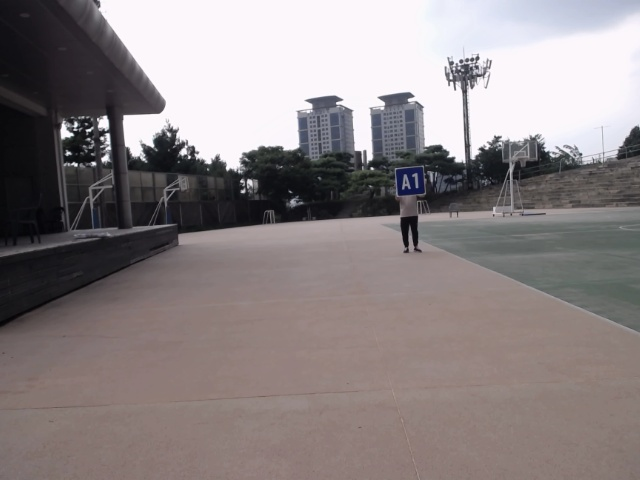delivery_a1: (396, 166, 424, 196)
